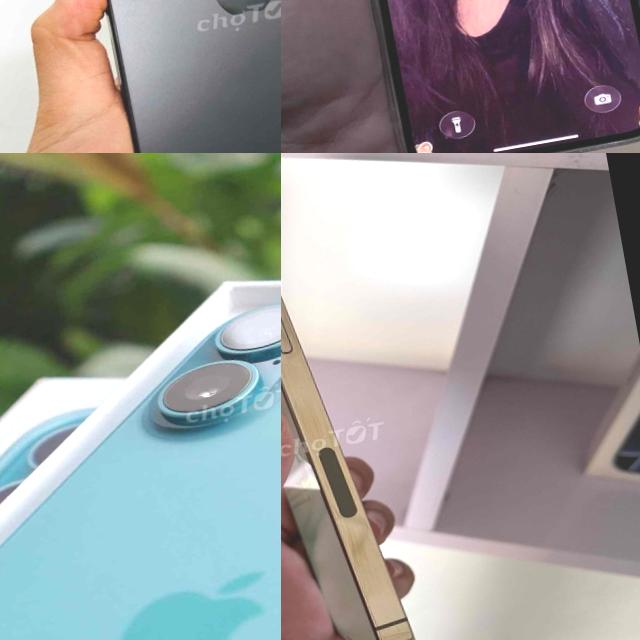gen_12_13: (281, 153, 444, 640), (332, 0, 640, 153)
gen_15: (48, 0, 281, 153)
gen_16: (0, 251, 281, 640)
